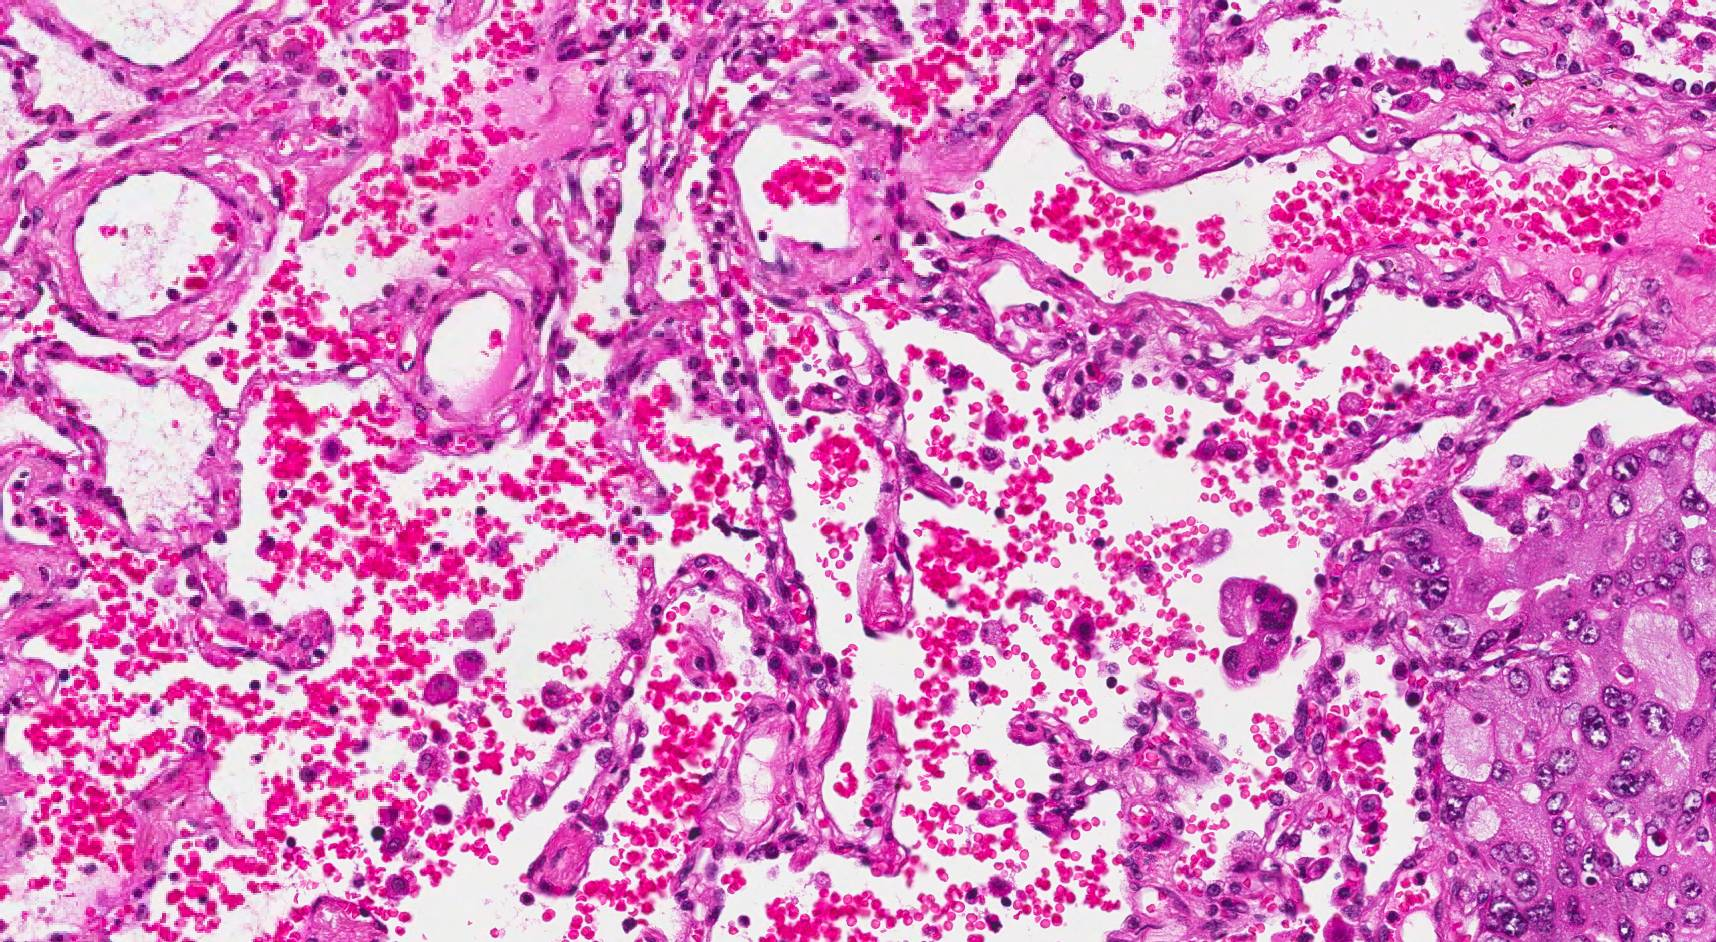stas: (1220, 579, 1300, 688)
